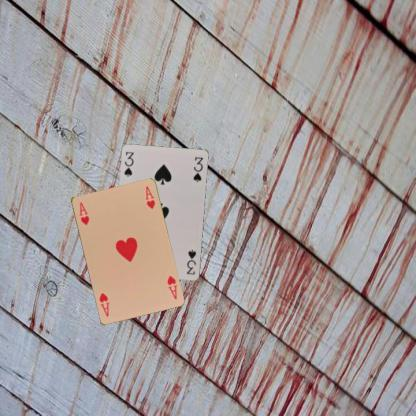3s: (184, 247, 198, 276), (122, 149, 135, 178)
Ah: (76, 199, 90, 226), (164, 273, 178, 300)
